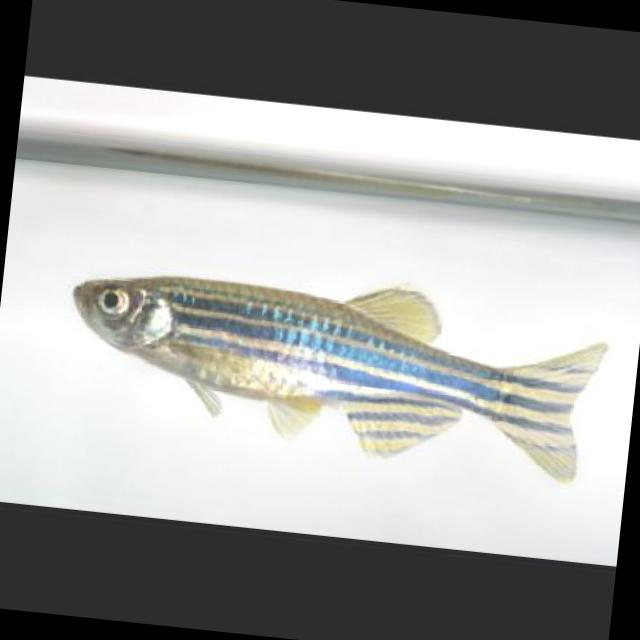ZebraFish: (56, 248, 614, 492)
